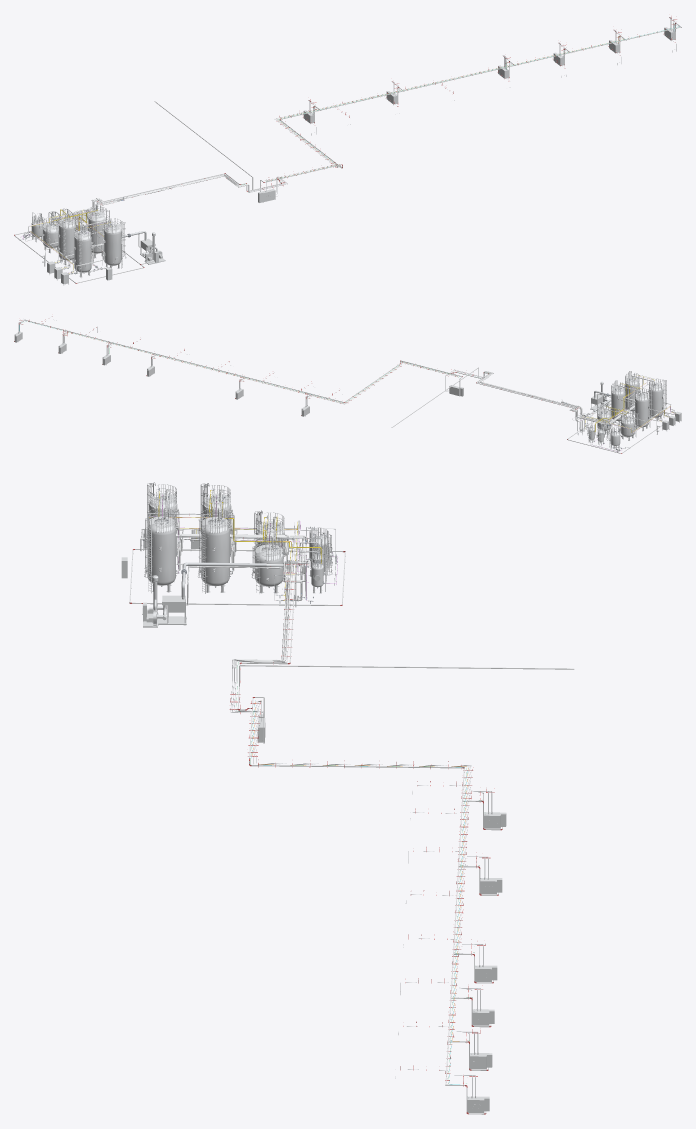
The model's file is projectA.glb.
3 views of the same model, one above another, from view 1: azimuth 30°, elevation 25°; view 2: azimuth 150°, elevation 25°; view 3: azimuth 270°, elevation 25° (orthographic). The views are drawn at different scales.
Visible parts, largest first — view 1: equip, struct, pipe_6, insul; view 2: equip, insul, struct, pipe_6, pipe_4, support; view 3: equip, pipe_6, struct, insul, support.
Part boxes in pixels (x1,y1,x2,y2): equip: (23, 27, 675, 285); struct: (14, 23, 681, 283); pipe_6: (21, 17, 676, 273); insul: (28, 174, 248, 274); equip: (14, 331, 681, 452); insul: (478, 371, 675, 437); struct: (14, 320, 674, 453); pipe_6: (18, 319, 675, 450); pipe_4: (585, 375, 673, 432); support: (14, 316, 621, 453); equip: (121, 482, 506, 1112); pipe_6: (147, 489, 492, 1094); struct: (129, 539, 574, 1114); insul: (140, 489, 309, 668); support: (129, 515, 502, 1114).
Size of the model in its own units: 156 by 10.2 by 52.46.
